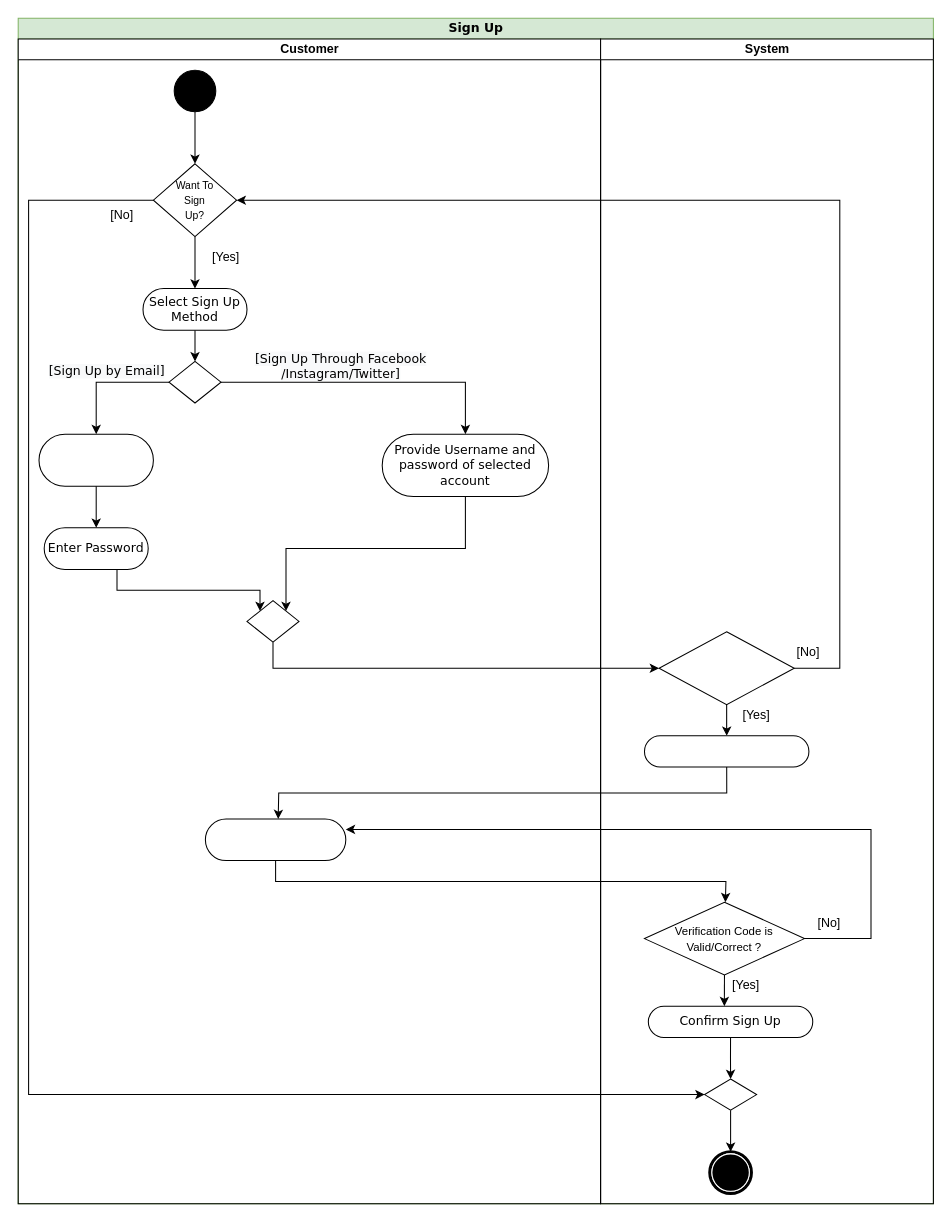
Some shapes in this 952 by 1222 pixel diagram are drawn without their labels. The shapes that lost their labels are listed below. From the top down, each one's centre as x and y in pixels, then its label:
At (95,459): "Enter Email Address/Phone No.".
At (726,668): "Information is Valid?".
At (726,751): "send verification code".
At (275,839): "Enter Verification code".
